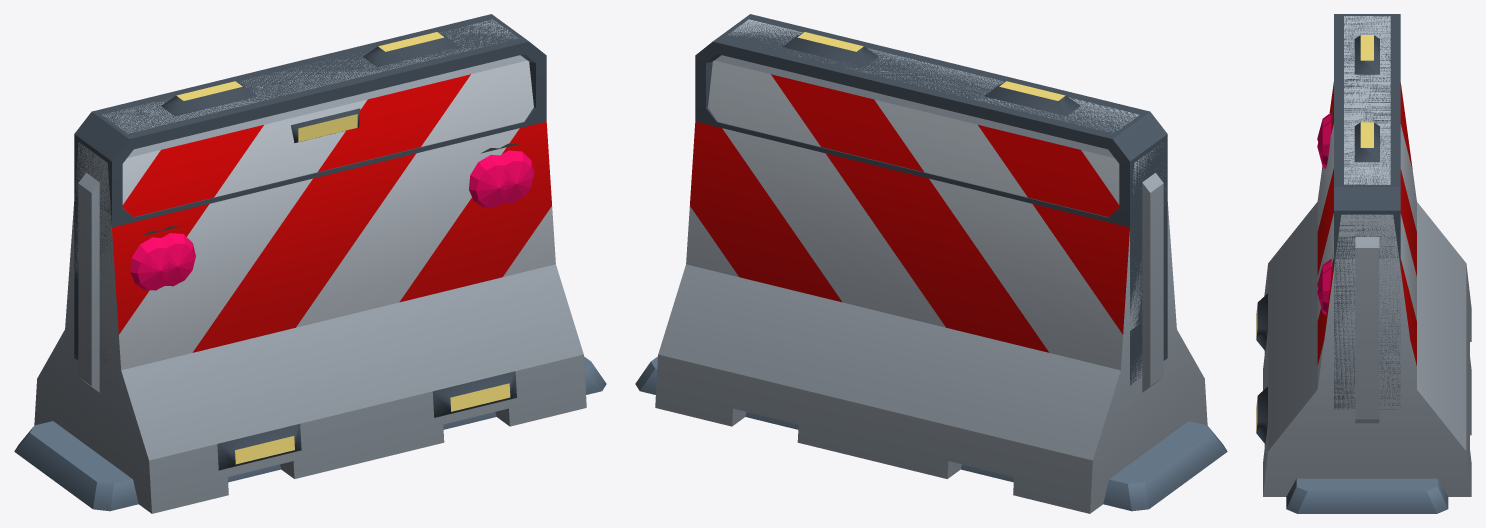
File: Pared_Baja.FBX
3 renders of one model, left to right at view 1: azimuth 30°, elevation 25°; view 2: azimuth 150°, elevation 25°; view 3: azimuth 270°, elevation 25°, orthographic. The views are drawn at different scales.
Parts seen in each view (by area): view 1: Pared_Baja_01, Pared_Baja_03, Pared_Baja_02; view 2: Pared_Baja_01, Pared_Baja_02, Pared_Baja_03; view 3: Pared_Baja_01, Pared_Baja_02, Pared_Baja_03.
Boxes of the visible parts, box(x1,y1,x2,y2) form: Pared_Baja_01: box(34, 19, 586, 513); Pared_Baja_03: box(14, 14, 600, 511); Pared_Baja_02: box(32, 14, 606, 511); Pared_Baja_01: box(655, 19, 1207, 513); Pared_Baja_02: box(635, 14, 1211, 510); Pared_Baja_03: box(640, 14, 1227, 511); Pared_Baja_01: box(1256, 16, 1471, 496); Pared_Baja_02: box(1286, 14, 1448, 513); Pared_Baja_03: box(1294, 14, 1438, 491).
Size of what is drawn, in the model's own units: 260 by 106 by 170.
